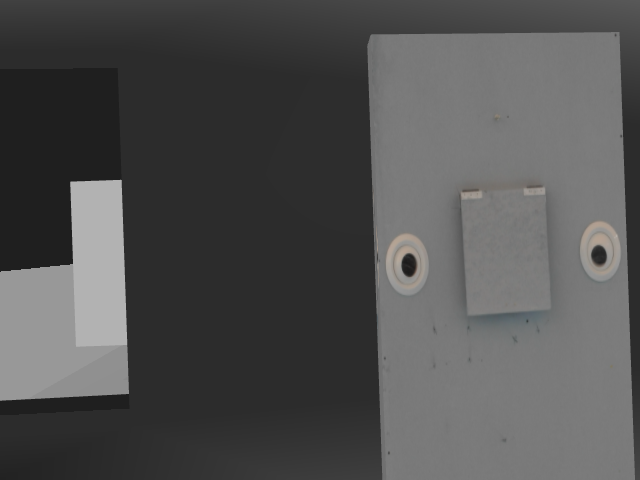facade: (380, 182, 624, 320)
